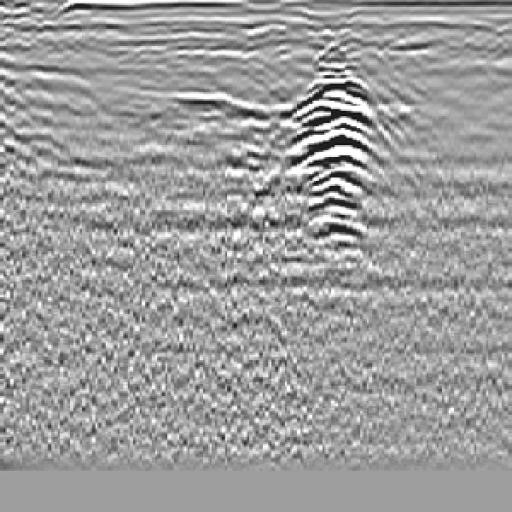metalic: (278, 51, 395, 282)
